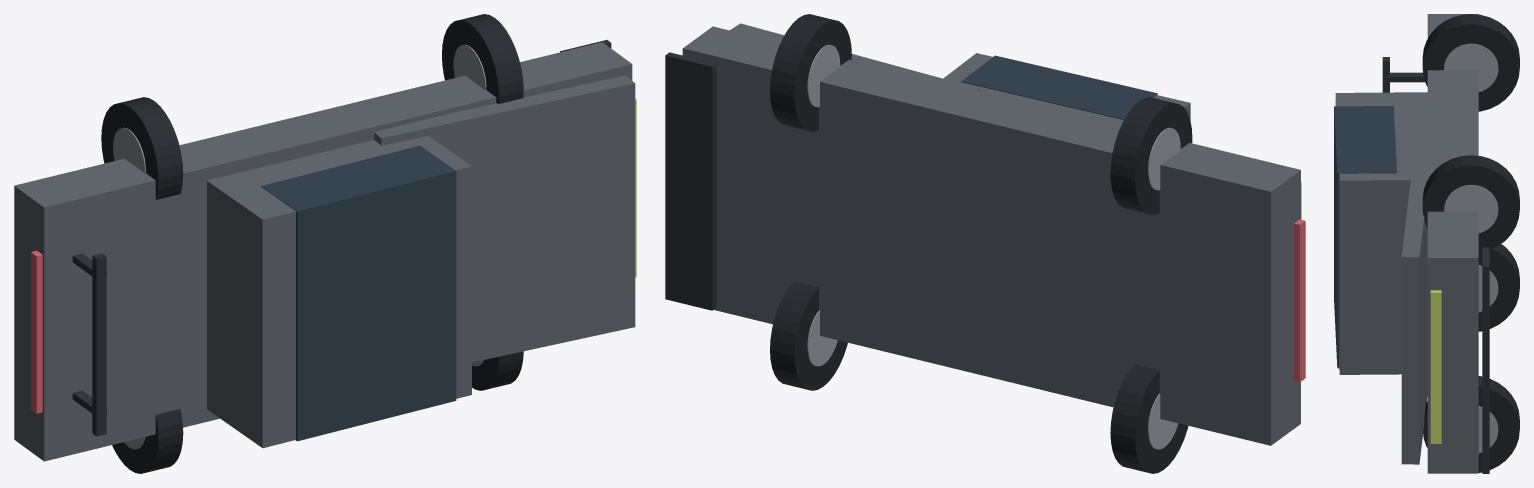
The model's file is supercar.glb.
The picture shows the model from 3 angles, left to right: view 1: azimuth 30°, elevation 25°; view 2: azimuth 150°, elevation 25°; view 3: azimuth 270°, elevation 25°; orthographic projection. The views are drawn at different scales.
Parts seen in each view (by area): view 1: part0, part1, part3, part2, part6, part10, part15, part4, part13, part8, part11, part7; view 2: part0, part14, part3, part6, part10, part4, part8, part13, part2, part1, part7, part11 (+2 smaller); view 3: part0, part2, part1, part3, part6, part10, part8, part4, part12, part14, part7, part11 (+4 smaller).
Part boxes in pixels (box(x1,y1,x2,y2)): part0: box(14, 42, 632, 461); part1: box(374, 75, 635, 362); part3: box(261, 145, 456, 441); part2: box(207, 136, 471, 448); part6: box(101, 97, 183, 199); part10: box(442, 14, 523, 103); part15: box(92, 253, 106, 436); part4: box(112, 409, 183, 473); part13: box(31, 250, 42, 413); part8: box(472, 351, 523, 390); part11: box(453, 44, 486, 90); part7: box(113, 127, 145, 173); part0: box(682, 26, 1300, 445); part14: box(665, 52, 716, 310); part3: box(961, 55, 1157, 119); part6: box(1110, 97, 1192, 214); part10: box(770, 14, 851, 131); part4: box(1110, 364, 1188, 473); part8: box(770, 281, 847, 390); part13: box(1294, 219, 1305, 382); part2: box(943, 53, 1190, 125); part1: box(730, 23, 979, 91); part7: box(1147, 127, 1180, 190); part11: box(807, 44, 840, 107); part0: box(1427, 14, 1478, 473); part2: box(1335, 92, 1427, 374); part1: box(1401, 154, 1427, 464); part3: box(1334, 106, 1396, 368); part6: box(1422, 14, 1519, 111); part10: box(1422, 155, 1519, 252); part8: box(1423, 376, 1519, 472); part4: box(1478, 244, 1519, 331); part12: box(1430, 290, 1441, 443); part14: box(1482, 247, 1489, 473); part7: box(1444, 43, 1498, 91); part11: box(1444, 185, 1498, 233).
Size of the model in its own units: 4.89 by 2.8 by 1.53.
